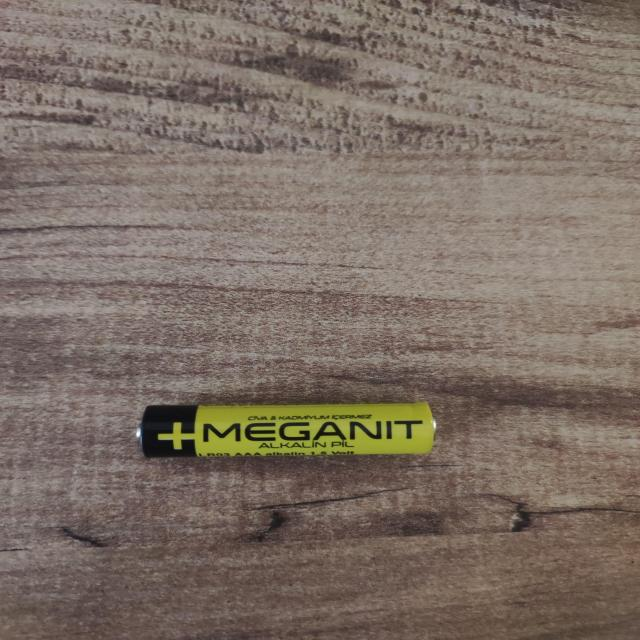AA: (136, 401, 436, 458)
